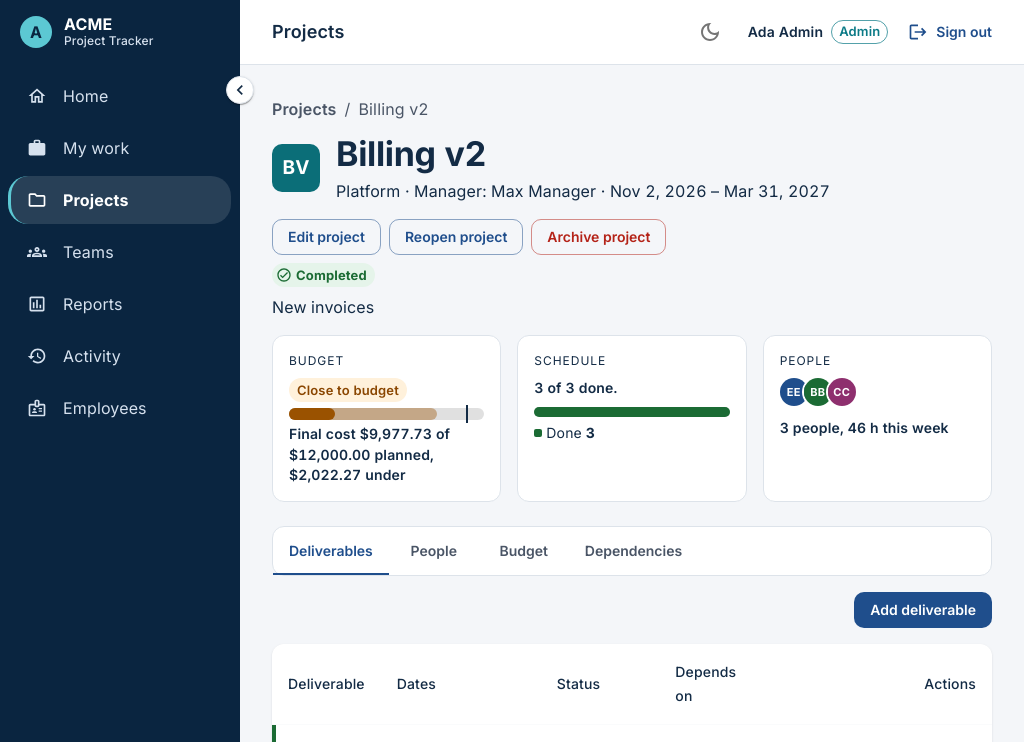
Test: Close project frees people first › a closed project with people still on it says so on the People tab, with Reopen; its budget shows the final cost
The width and height of the screenshot is (1024, 742).
expect the heading "Billing v2" is shown: met, box left=336, top=133, right=486, bottom=174
expect the text "Final cost $9,977.73 of $12,000.00 planned, $2,022.27 under" is shown: met, box left=289, top=426, right=450, bottom=482
Click the tab "People".
click(434, 550)  # box left=389, top=526, right=479, bottom=574
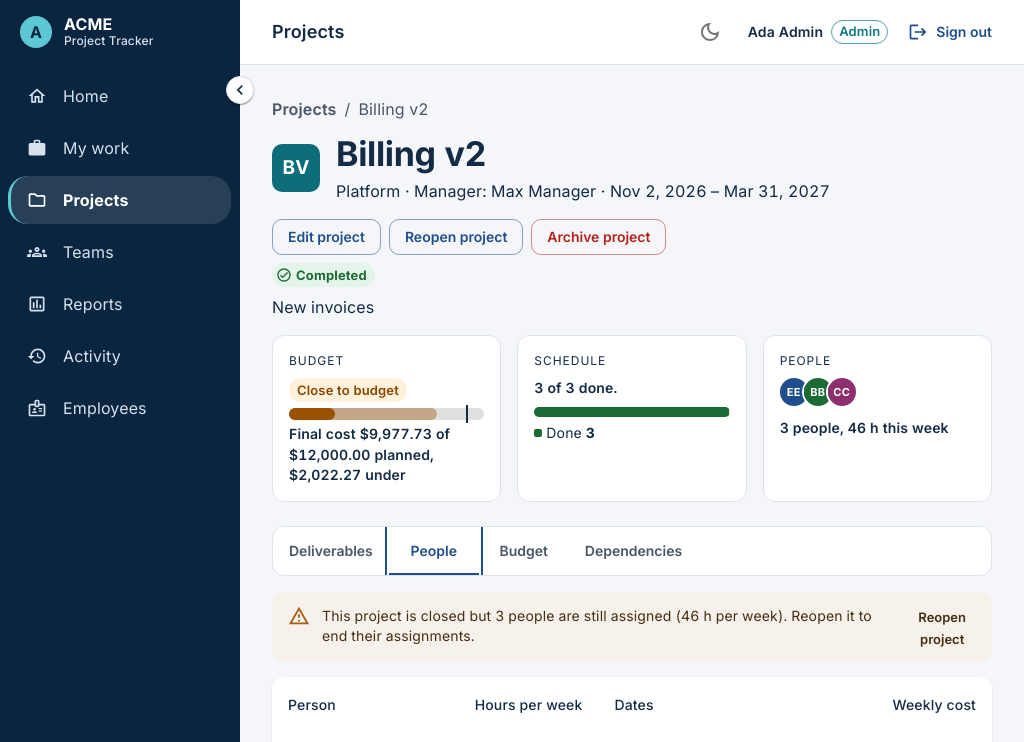
expect the number of buttons "Reopen project" is 2: met, box left=389, top=219, right=523, bottom=256; left=900, top=602, right=984, bottom=655
